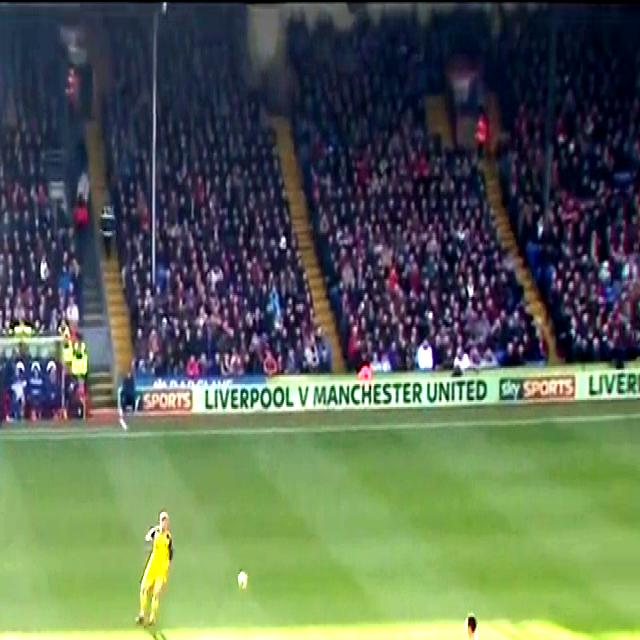ball: (239, 565, 253, 596)
soccer-player: (129, 501, 174, 632), (459, 610, 491, 640)
